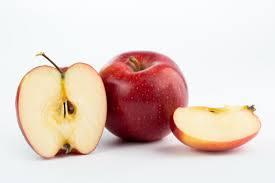apple: (13, 49, 108, 162), (102, 46, 190, 143), (161, 93, 264, 162)
